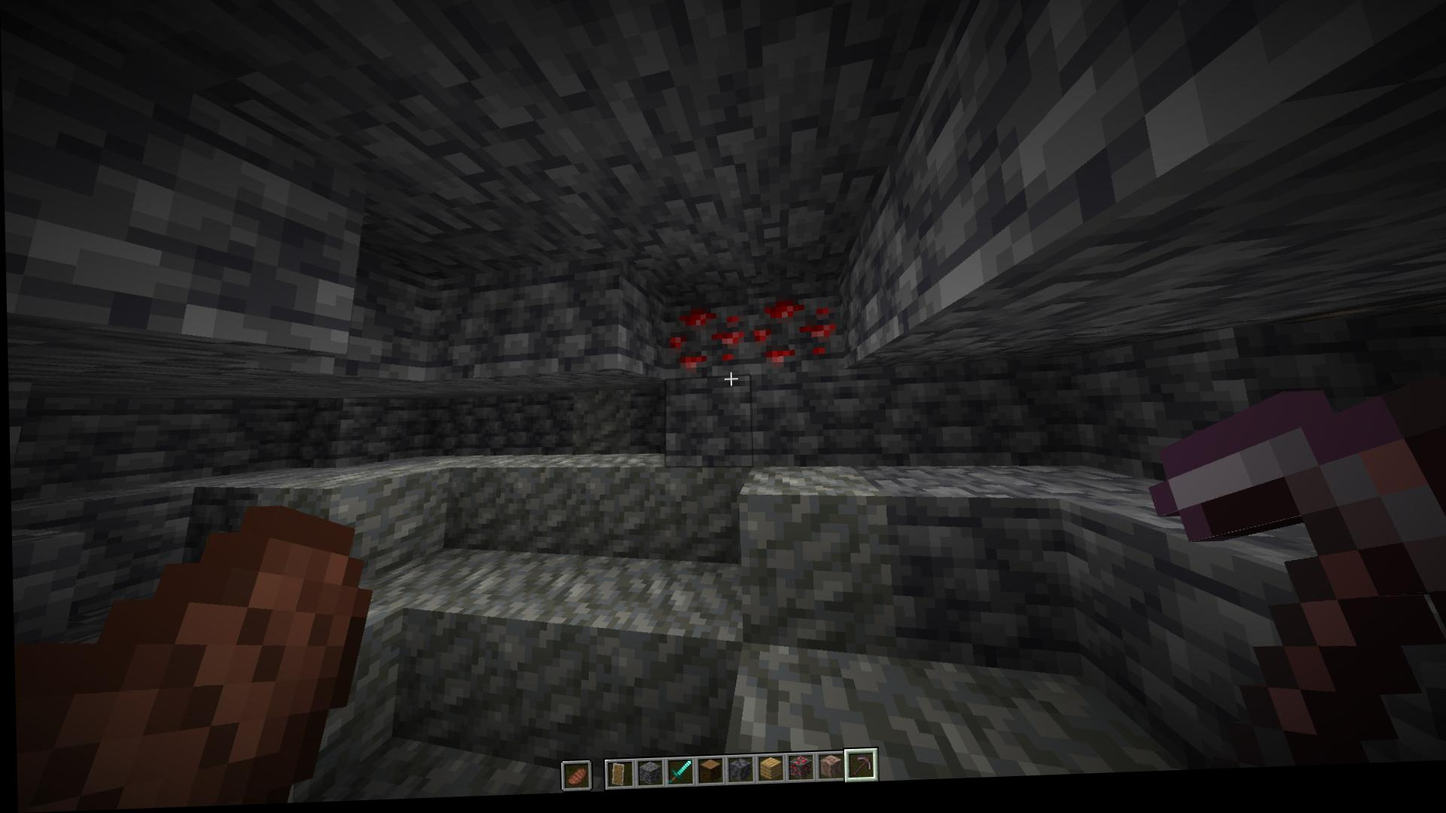redstone ore: (741, 289, 839, 378), (659, 301, 745, 380)
